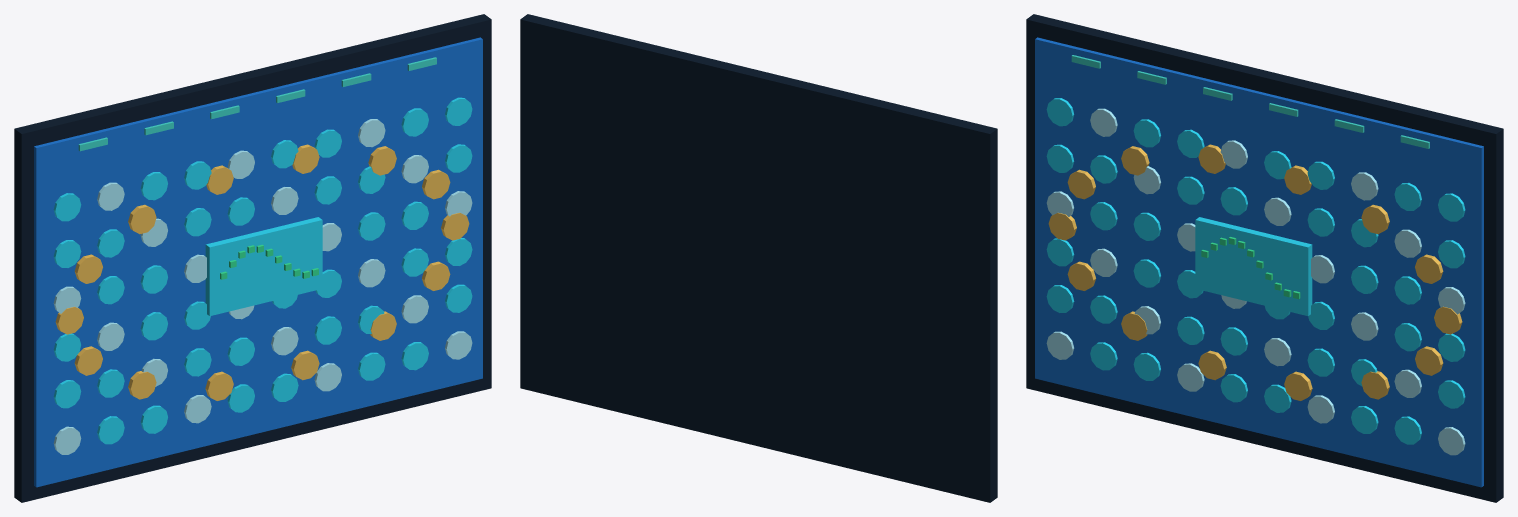
Rendered from 47_L78_HolographicLowKPoreNetwork.fbx.
3 renders of one model, left to right at view 1: azimuth 30°, elevation 25°; view 2: azimuth 150°, elevation 25°; view 3: azimuth 330°, elevation 25°, orthographic.
Visible parts, largest first — view 1: HolographicLowKPoreNetwork, HolographicLowKPoreNetwork_Part_0082; view 2: HolographicLowKPoreNetwork; view 3: HolographicLowKPoreNetwork, HolographicLowKPoreNetwork_Part_0082.
Part boxes in pixels (x1=…): HolographicLowKPoreNetwork: x1=14, y1=14, x2=491, y2=502; HolographicLowKPoreNetwork_Part_0082: x1=205, y1=217, x2=322, y2=315; HolographicLowKPoreNetwork: x1=520, y1=14, x2=997, y2=502; HolographicLowKPoreNetwork: x1=1026, y1=14, x2=1503, y2=502; HolographicLowKPoreNetwork_Part_0082: x1=1195, y1=217, x2=1312, y2=315.
Bounding box in the file's own units: 200 × 150 × 14.6.
